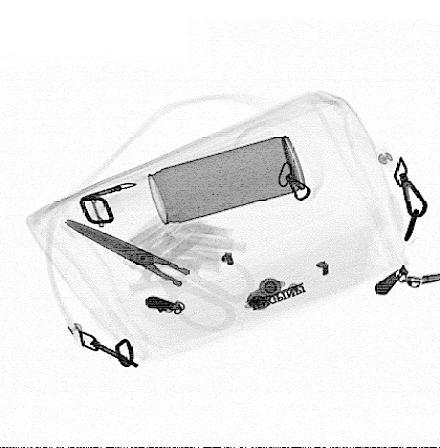Scissors: (61, 216, 258, 335)
